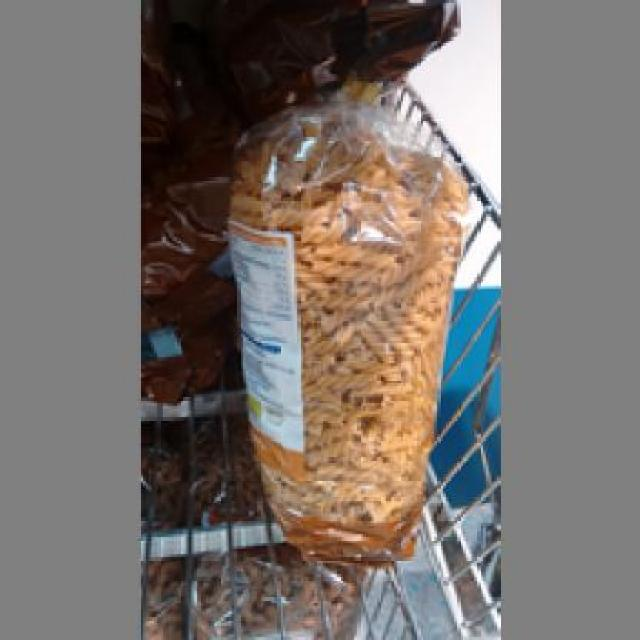Pasta: (222, 91, 468, 560)
